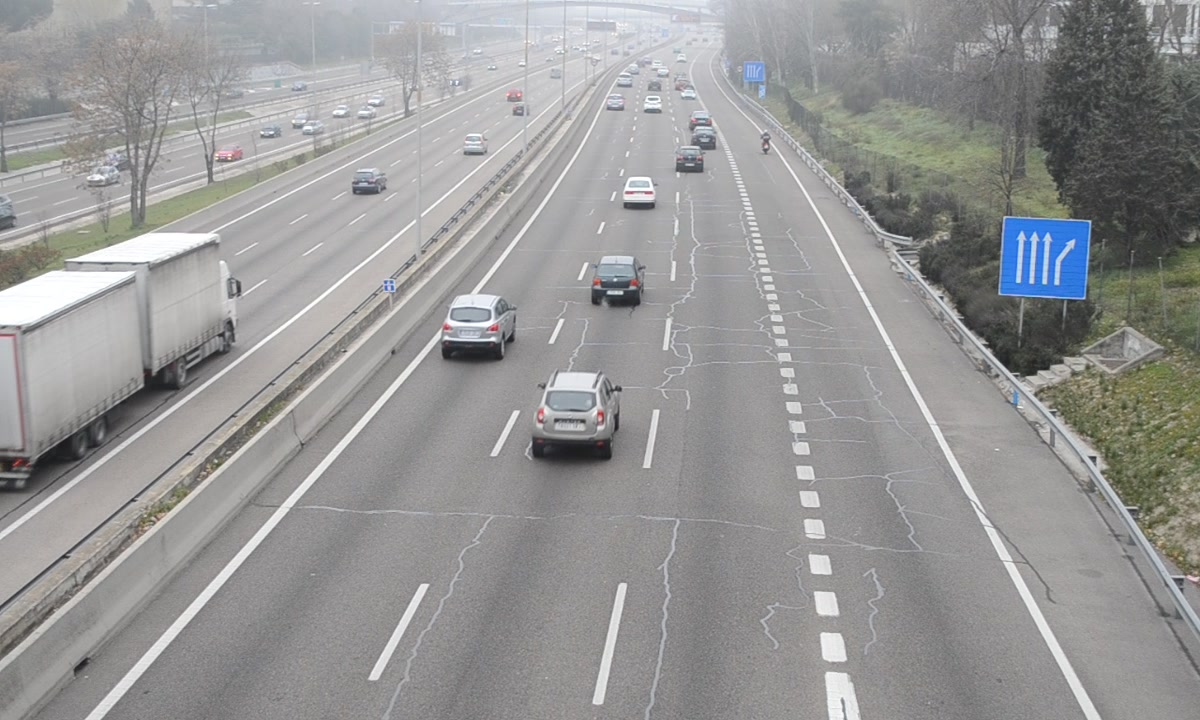car: (535, 373, 617, 443), (441, 294, 517, 348), (591, 255, 643, 301), (622, 175, 656, 205), (676, 145, 705, 174)
motorcycle: (760, 128, 773, 155)
